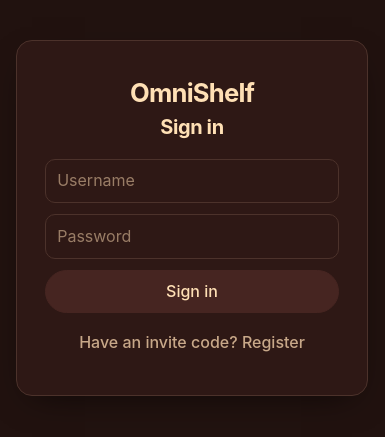
Scenario: login form › shows the envelope message when login fails
Type "david" into the field labelled "Username". click: (192, 181)
box: x1=45 y1=159 x2=339 y2=203
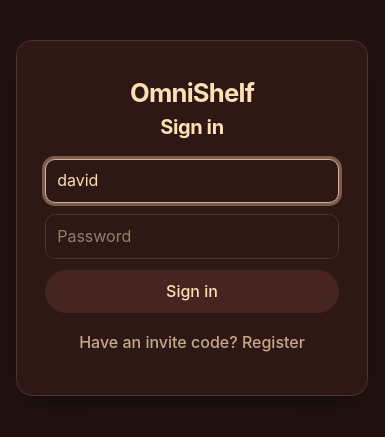
Type "nope" into the password field labelled "Password". click: (192, 236)
box: x1=45 y1=214 x2=339 y2=259
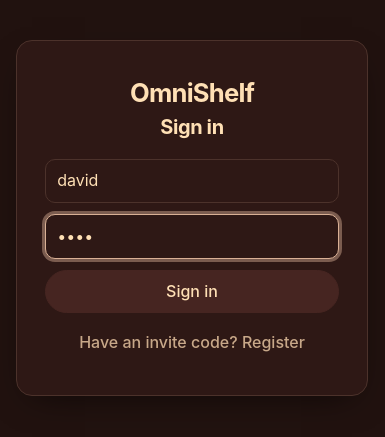
Click the button "Sign in". click: (192, 291)
box: x1=45 y1=270 x2=339 y2=313
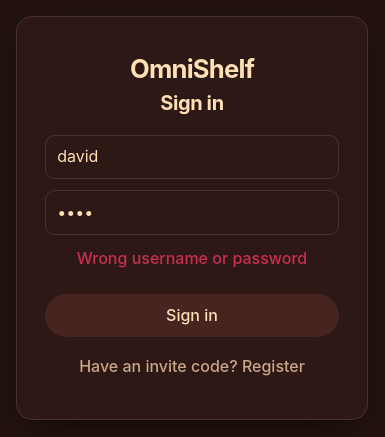
expect the heading "Sign in" is shown: met, box x1=160 y1=91 x2=224 y2=115
expect the message reads "Wrong username or password": met, box x1=77 y1=248 x2=307 y2=268
